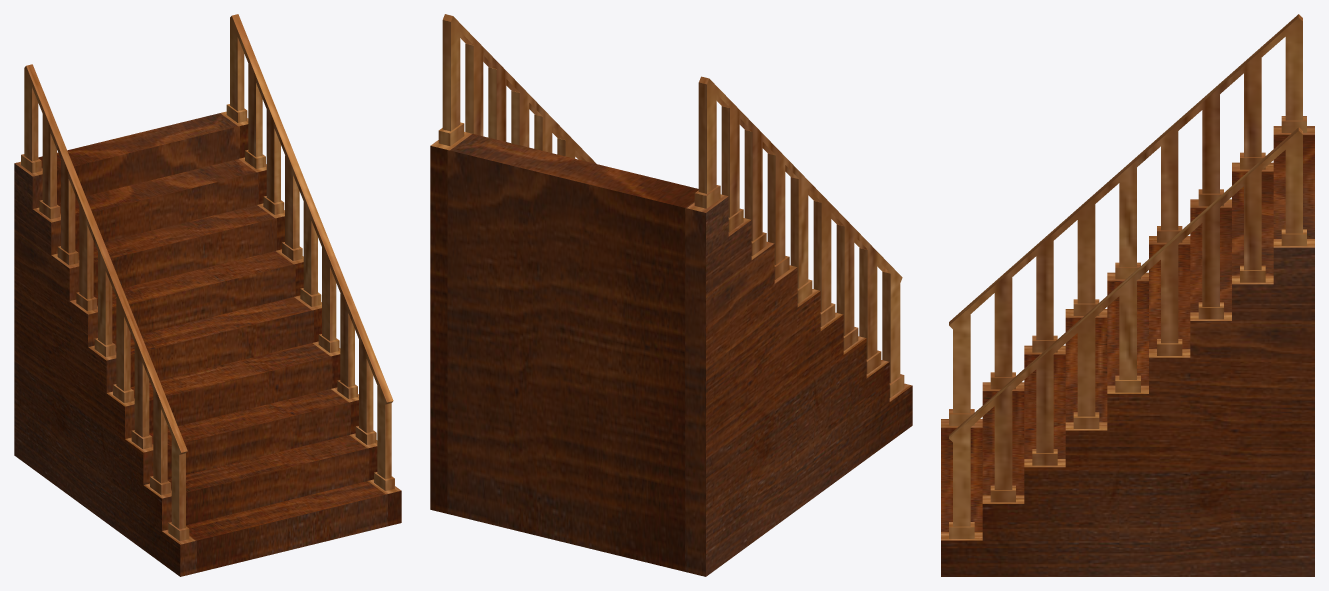
Rendered from stairs.fbx.
3 renders of one model, left to right at view 1: azimuth 30°, elevation 25°; view 2: azimuth 150°, elevation 25°; view 3: azimuth 270°, elevation 25°, orthographic. The views are drawn at different scales.
Parts seen in each view (by area): view 1: stairs, Cube.015; view 2: stairs, Cube.015; view 3: stairs, Cube.015.
Part boxes in pixels (bbox=[...]): stairs: bbox=[14, 113, 401, 576]; Cube.015: bbox=[14, 14, 400, 544]; stairs: bbox=[430, 134, 912, 576]; Cube.015: bbox=[430, 14, 911, 401]; stairs: bbox=[941, 134, 1314, 576]; Cube.015: bbox=[941, 14, 1314, 540].
Size of the model in its own units: 245 by 417 by 319.
2 materials, 2 textured.
